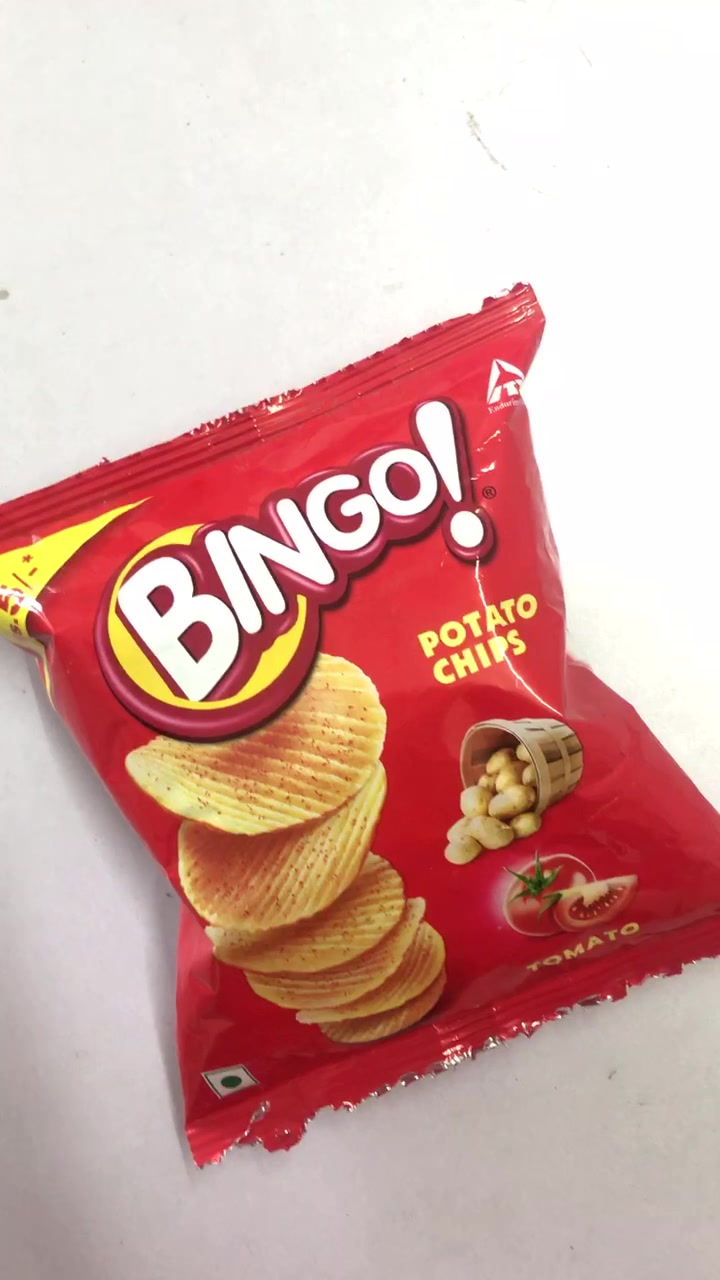Bingo: (3, 287, 720, 1164)
